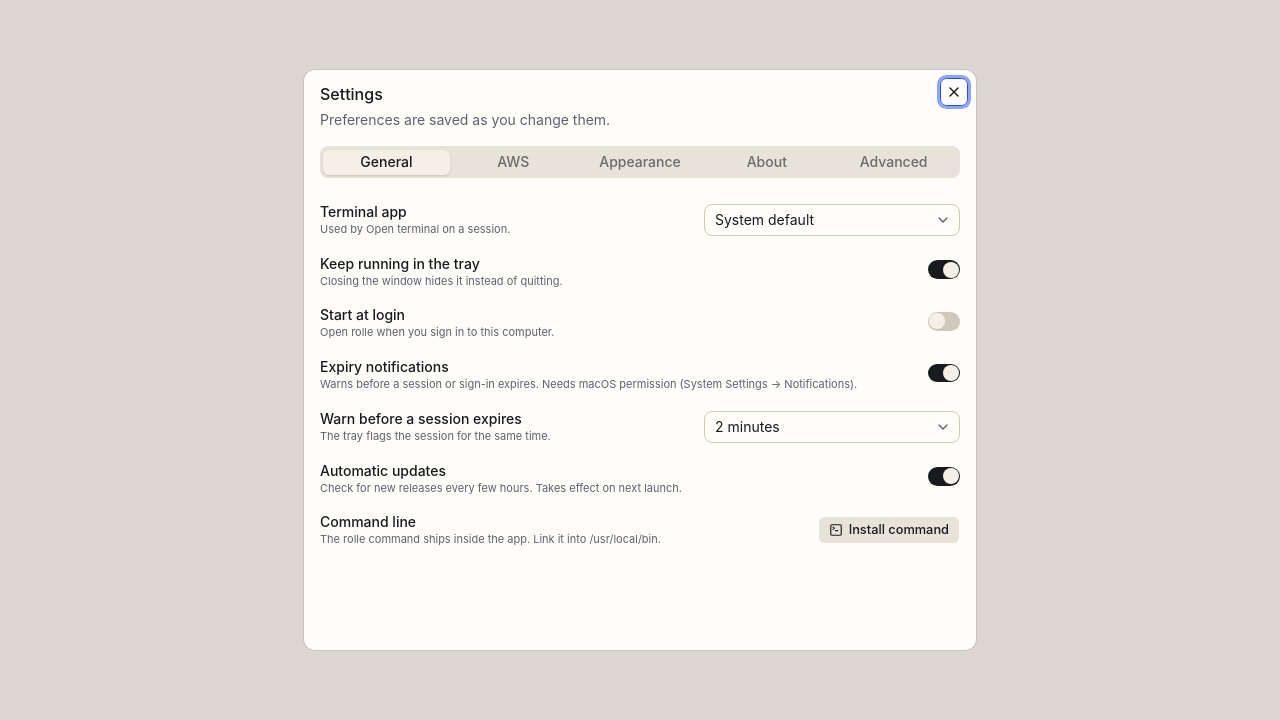
Scenario: SettingsDialog › shows an update check failure
The image size is (1280, 720).
Check: the tab "General" is shown, box x1=323 y1=150 x2=450 y2=174
Click the tab "About".
click(767, 162)  # box x1=703 y1=150 x2=830 y2=174
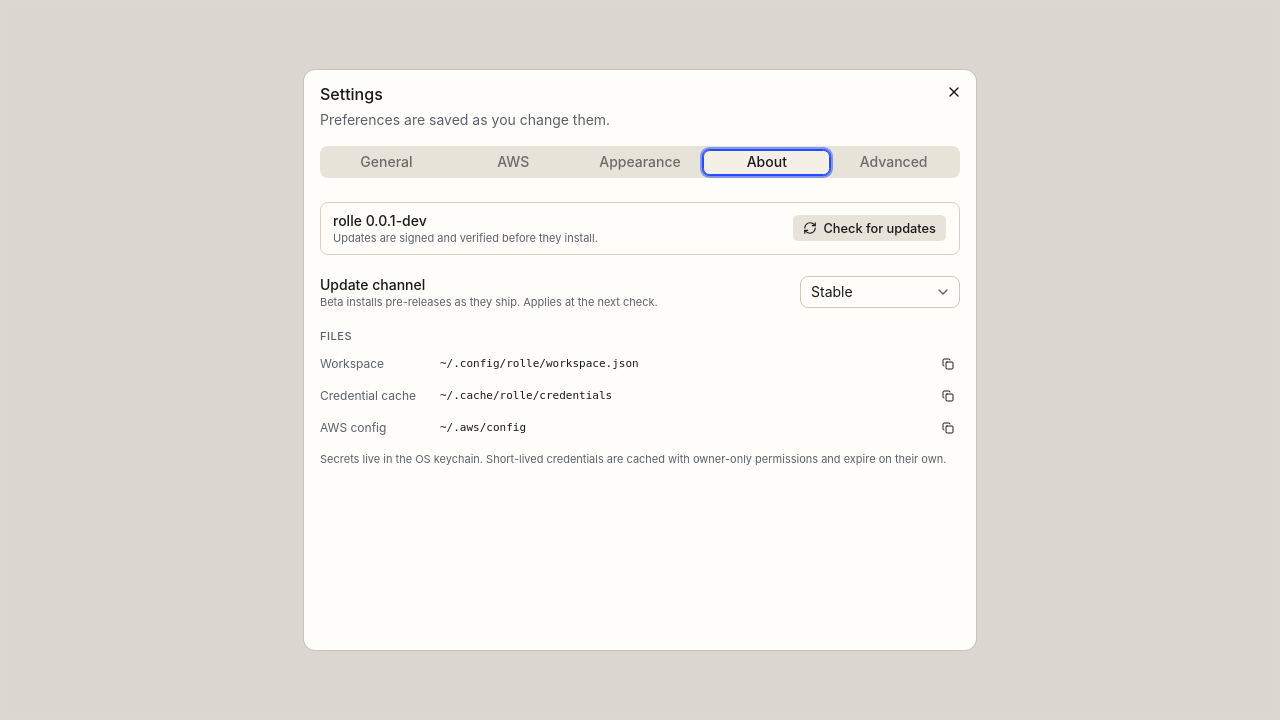
Click the button "Check for updates".
click(870, 228)  # box x1=792 y1=214 x2=947 y2=242
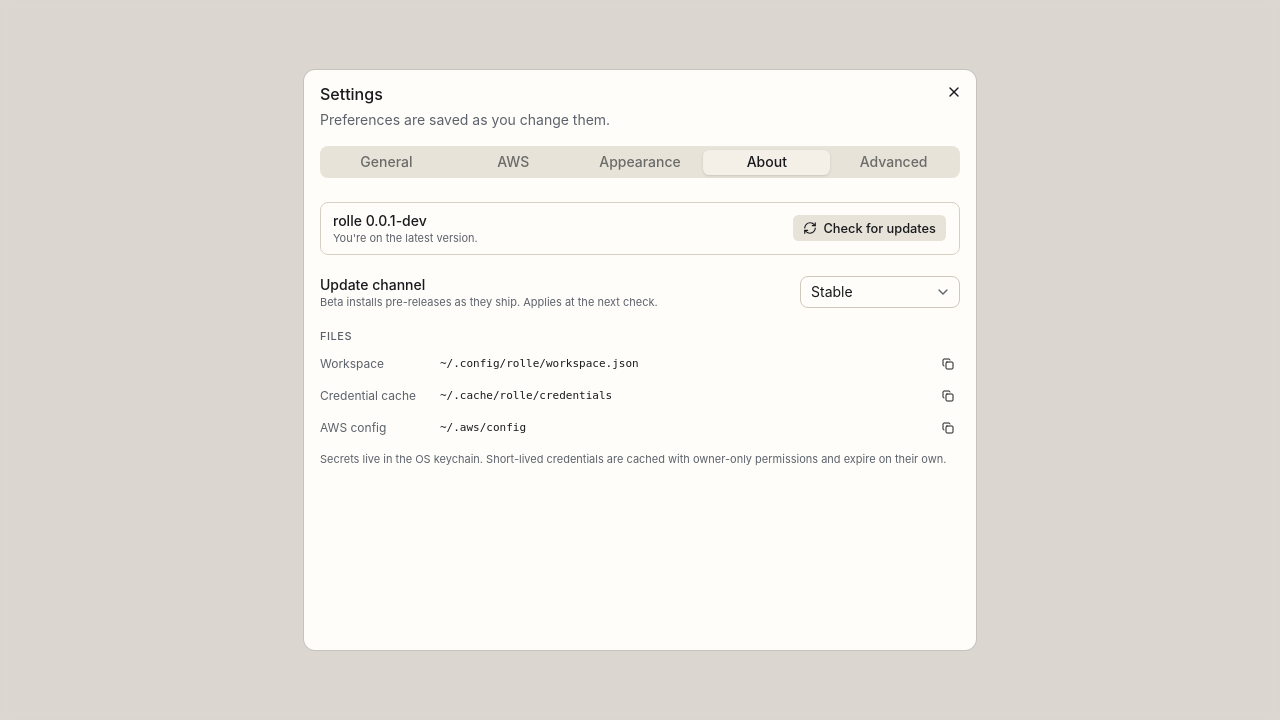
Check: the text "You're on the latest version." is shown, box x1=333 y1=231 x2=478 y2=246
Click the button "Check for updates".
click(870, 228)  # box x1=792 y1=214 x2=947 y2=242
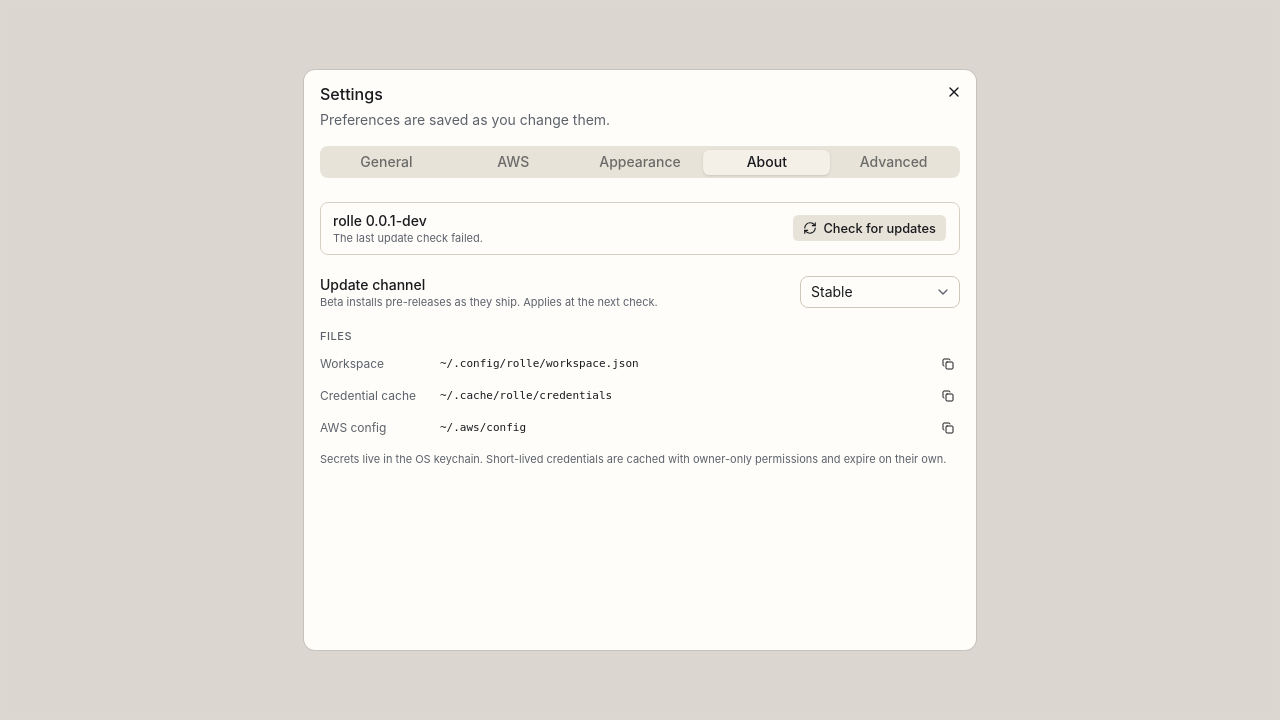
Check: the text "The last update check failed." is shown, box x1=333 y1=231 x2=483 y2=246
Check: the text "You're on the latest version." is gone
